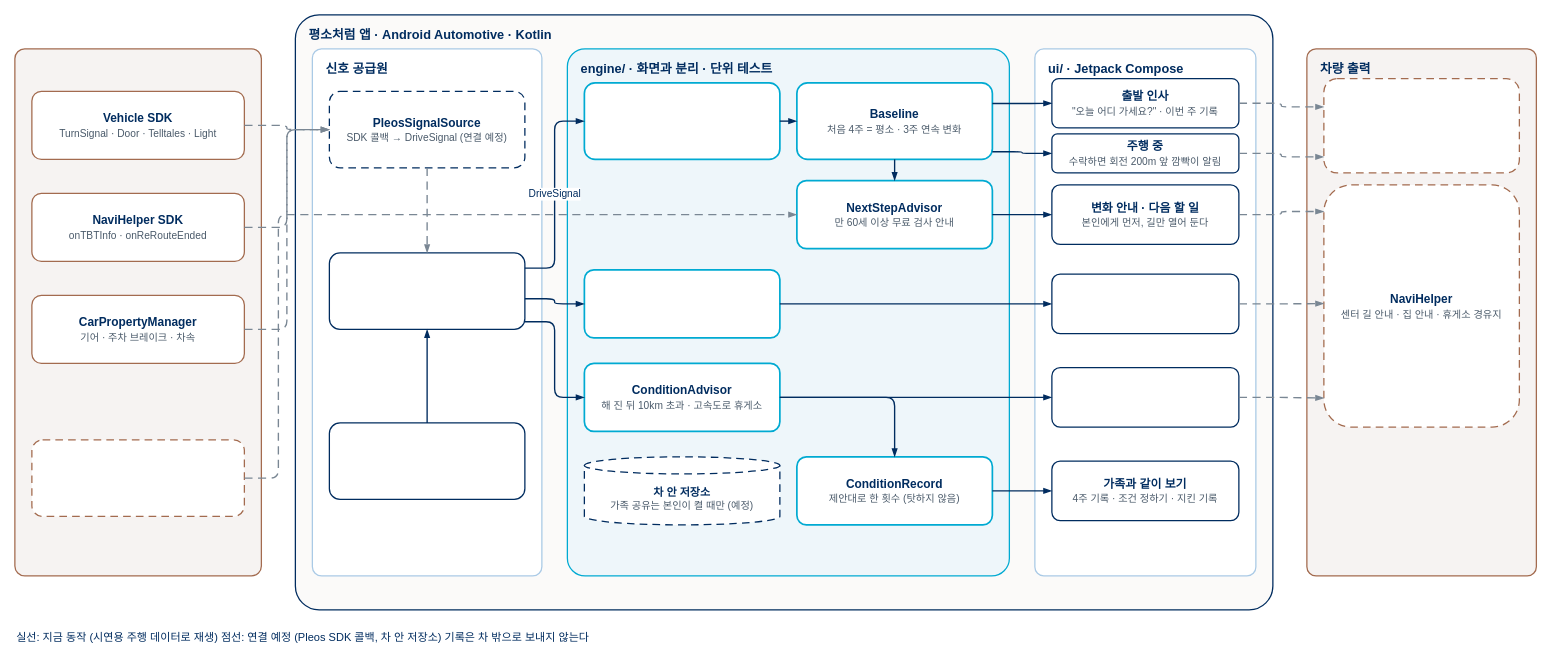
Some shapes in this 1552 by 662 pixel diagram are drawn without their labels. The shapes that lost their labels are listed below. From the top down, each one's box as (x1, y1, x2, y2) in pixels, then its label:
(583, 82, 780, 160): MissedTurnSignalDetector 깜빡이 누락 (집중잔량과 공유)
(1323, 78, 1520, 173): TTS · STT 출발 인사 · 깜빡이 알림
(328, 252, 525, 330): VehicleSignalSource 신호 공급원 인터페이스
(583, 269, 780, 338): WanderingDetector 5번 넘게 간 길, 5분 안 재탐색 2번
(1051, 273, 1239, 334): 길 헤맴 "집으로 안내해 드릴까요?"
(14, 48, 262, 576): 차량 입력 · Pleos Connect
(1051, 367, 1239, 427): 조건 제안 "내일 낮에 가실까요?" 막지 않음
(31, 439, 245, 517): 공공데이터포털 전국치매센터표준데이터 (위도·경도)
(328, 422, 525, 500): DemoSignalSource 첫 4주 · 7주째 시연 기록
